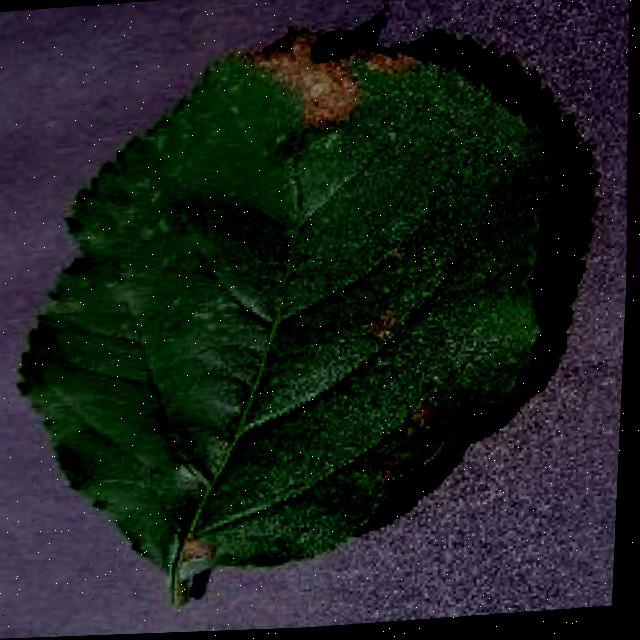black_rot: (215, 4, 433, 144), (346, 283, 416, 354), (404, 381, 459, 439)
